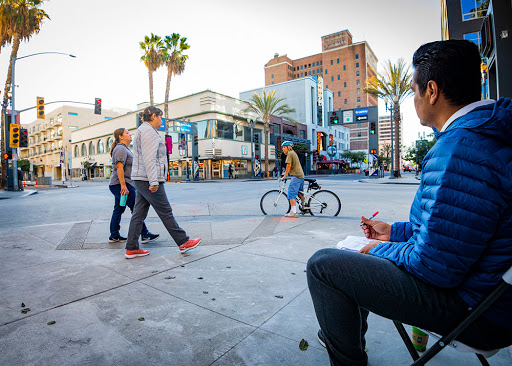pedestrian: (121, 96, 205, 270), (102, 128, 141, 251), (270, 133, 312, 221)
